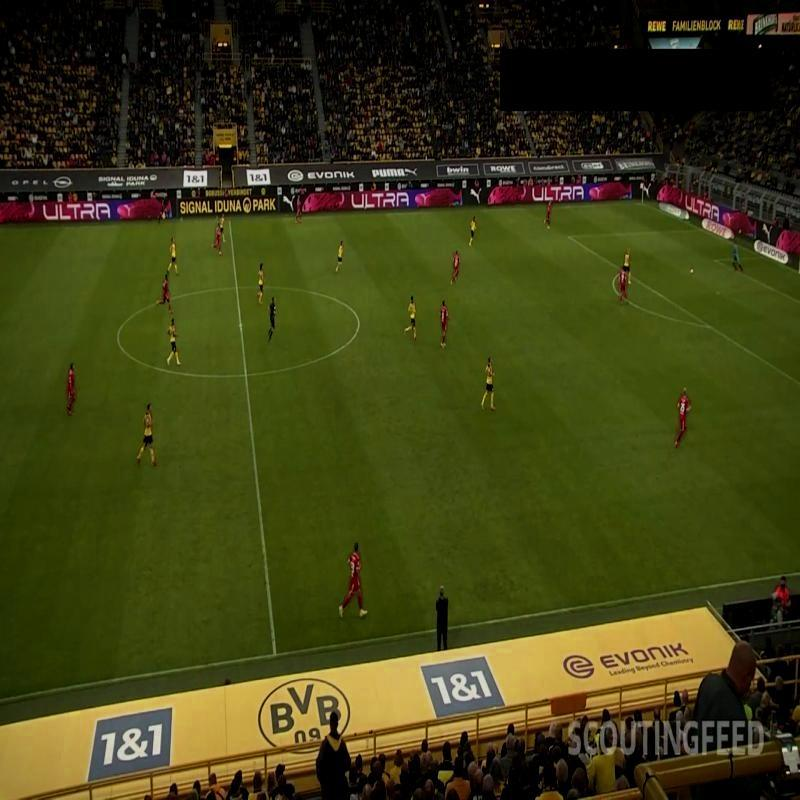1: (635, 197, 649, 211)
10: (614, 262, 628, 276)
11: (700, 317, 720, 337)
13: (222, 211, 236, 225)
14: (228, 279, 246, 297)
15: (238, 366, 254, 382)
16: (266, 643, 284, 665)
2: (694, 224, 708, 238)
3: (754, 251, 768, 264)
7: (707, 252, 722, 269)
9: (560, 229, 576, 246)
c: (350, 305, 368, 331), (108, 329, 125, 349)
